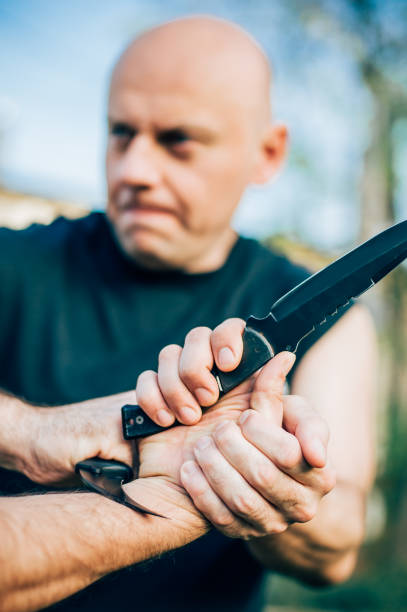knife: (122, 222, 407, 441)
